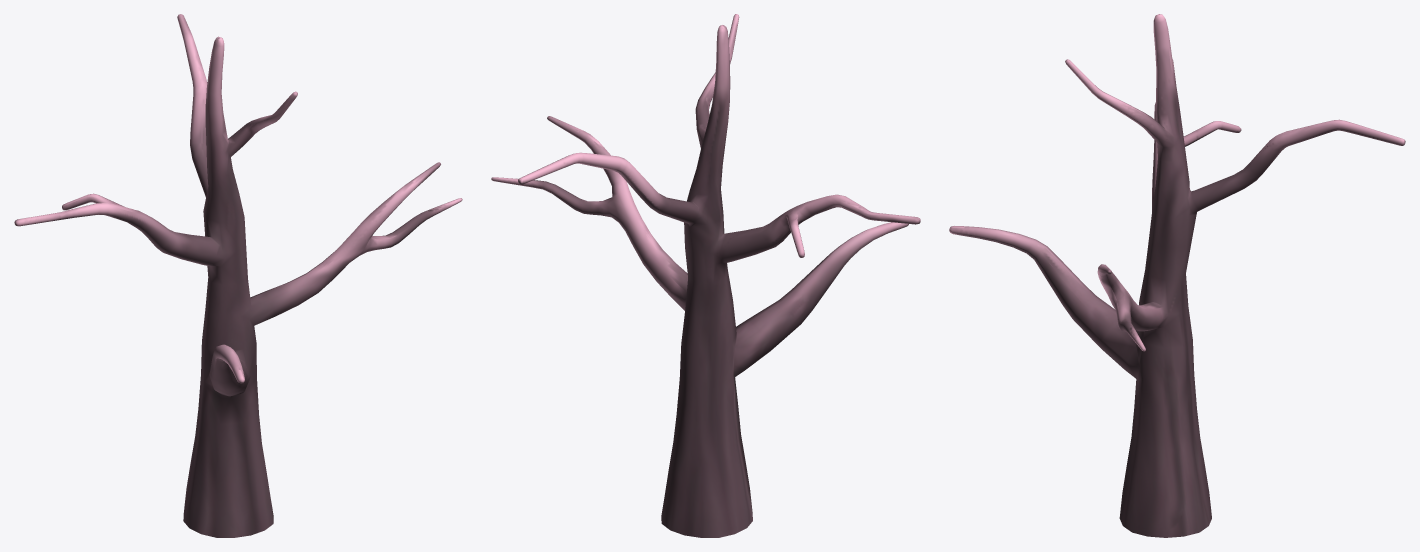
The model's file is Tree02.fbx.
3 renders of one model, left to right at view 1: azimuth 30°, elevation 25°; view 2: azimuth 150°, elevation 25°; view 3: azimuth 270°, elevation 25°, orthographic. The views are drawn at different scales.
Visible parts, largest first — view 1: Tree02; view 2: Tree02; view 3: Tree02.
Part boxes in pixels (<box>): Tree02: <box>14,14,462,537</box>; Tree02: <box>491,14,920,537</box>; Tree02: <box>949,14,1405,537</box>.
Size of the model in its own units: 74.35 by 79.54 by 66.
